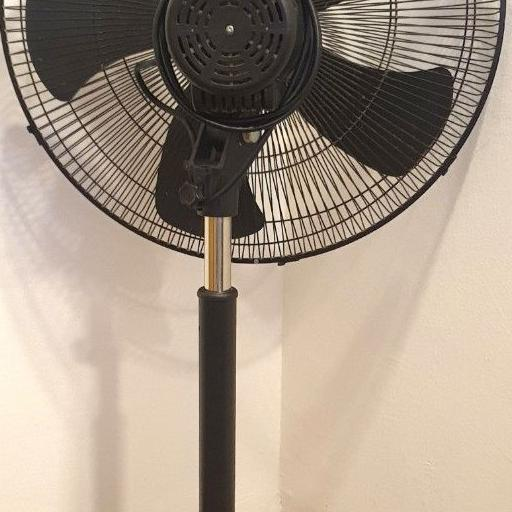Fan: (0, 0, 508, 267)
